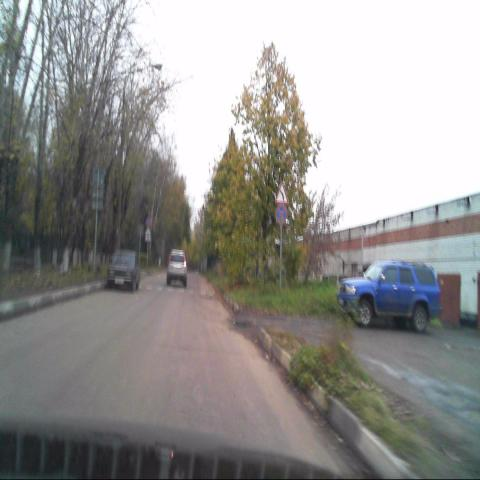1_11_1: (275, 180, 289, 205)
